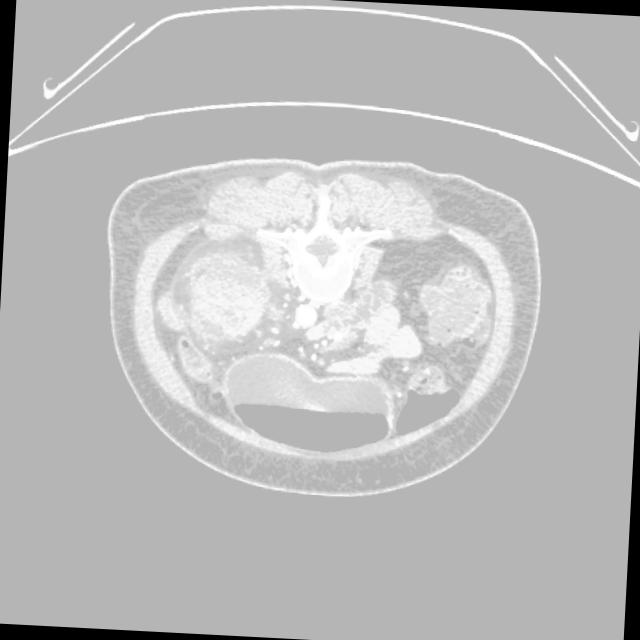TUMOR: (152, 243, 520, 481)
